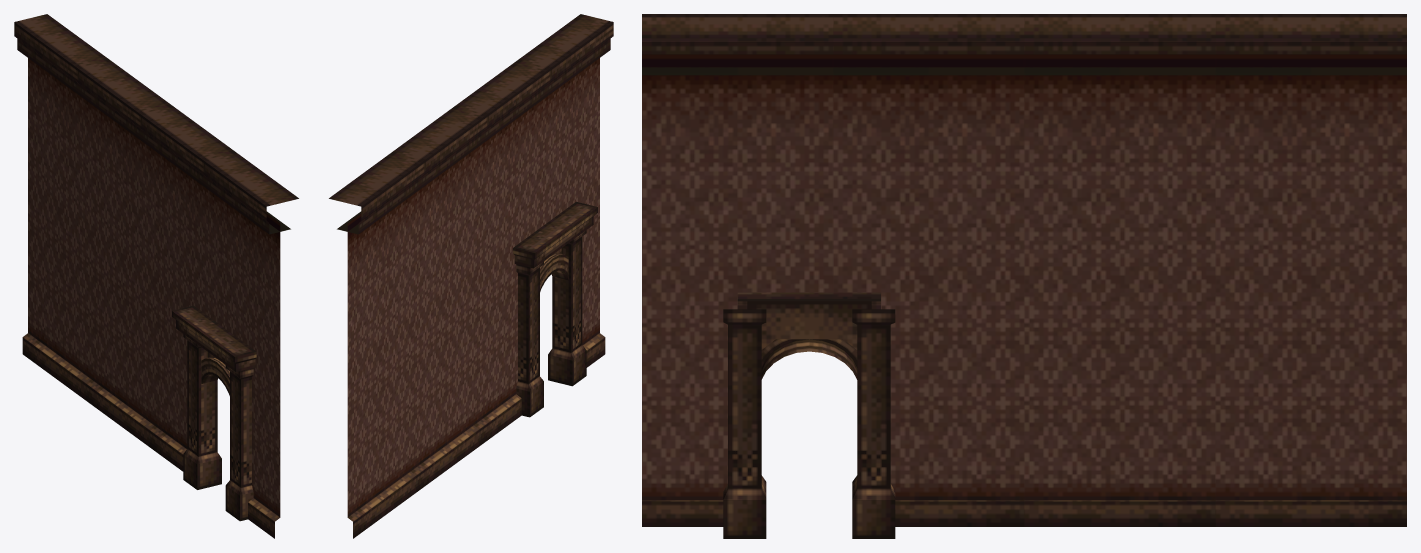
The model's file is EnvBdgMD_Snow_Mansion_A_Indoor_RoomWall_A.FBX.
The picture shows the model from 3 angles, left to right: view 1: azimuth 30°, elevation 25°; view 2: azimuth 150°, elevation 25°; view 3: azimuth 270°, elevation 25°; orthographic projection. The views are drawn at different scales.
Parts seen in each view (by area): view 1: EnvBdgMD_Snow_Mansion_A_Indoor_RoomWall_A; view 2: EnvBdgMD_Snow_Mansion_A_Indoor_RoomWall_A; view 3: EnvBdgMD_Snow_Mansion_A_Indoor_RoomWall_A.
Boxes of the visible parts, bbox=[...] form: EnvBdgMD_Snow_Mansion_A_Indoor_RoomWall_A: bbox=[14, 14, 298, 538]; EnvBdgMD_Snow_Mansion_A_Indoor_RoomWall_A: bbox=[329, 14, 613, 538]; EnvBdgMD_Snow_Mansion_A_Indoor_RoomWall_A: bbox=[642, 14, 1406, 538].
Size of the model in its own units: 75 by 585 by 800.
Materials: 1 (1 with a texture image).
